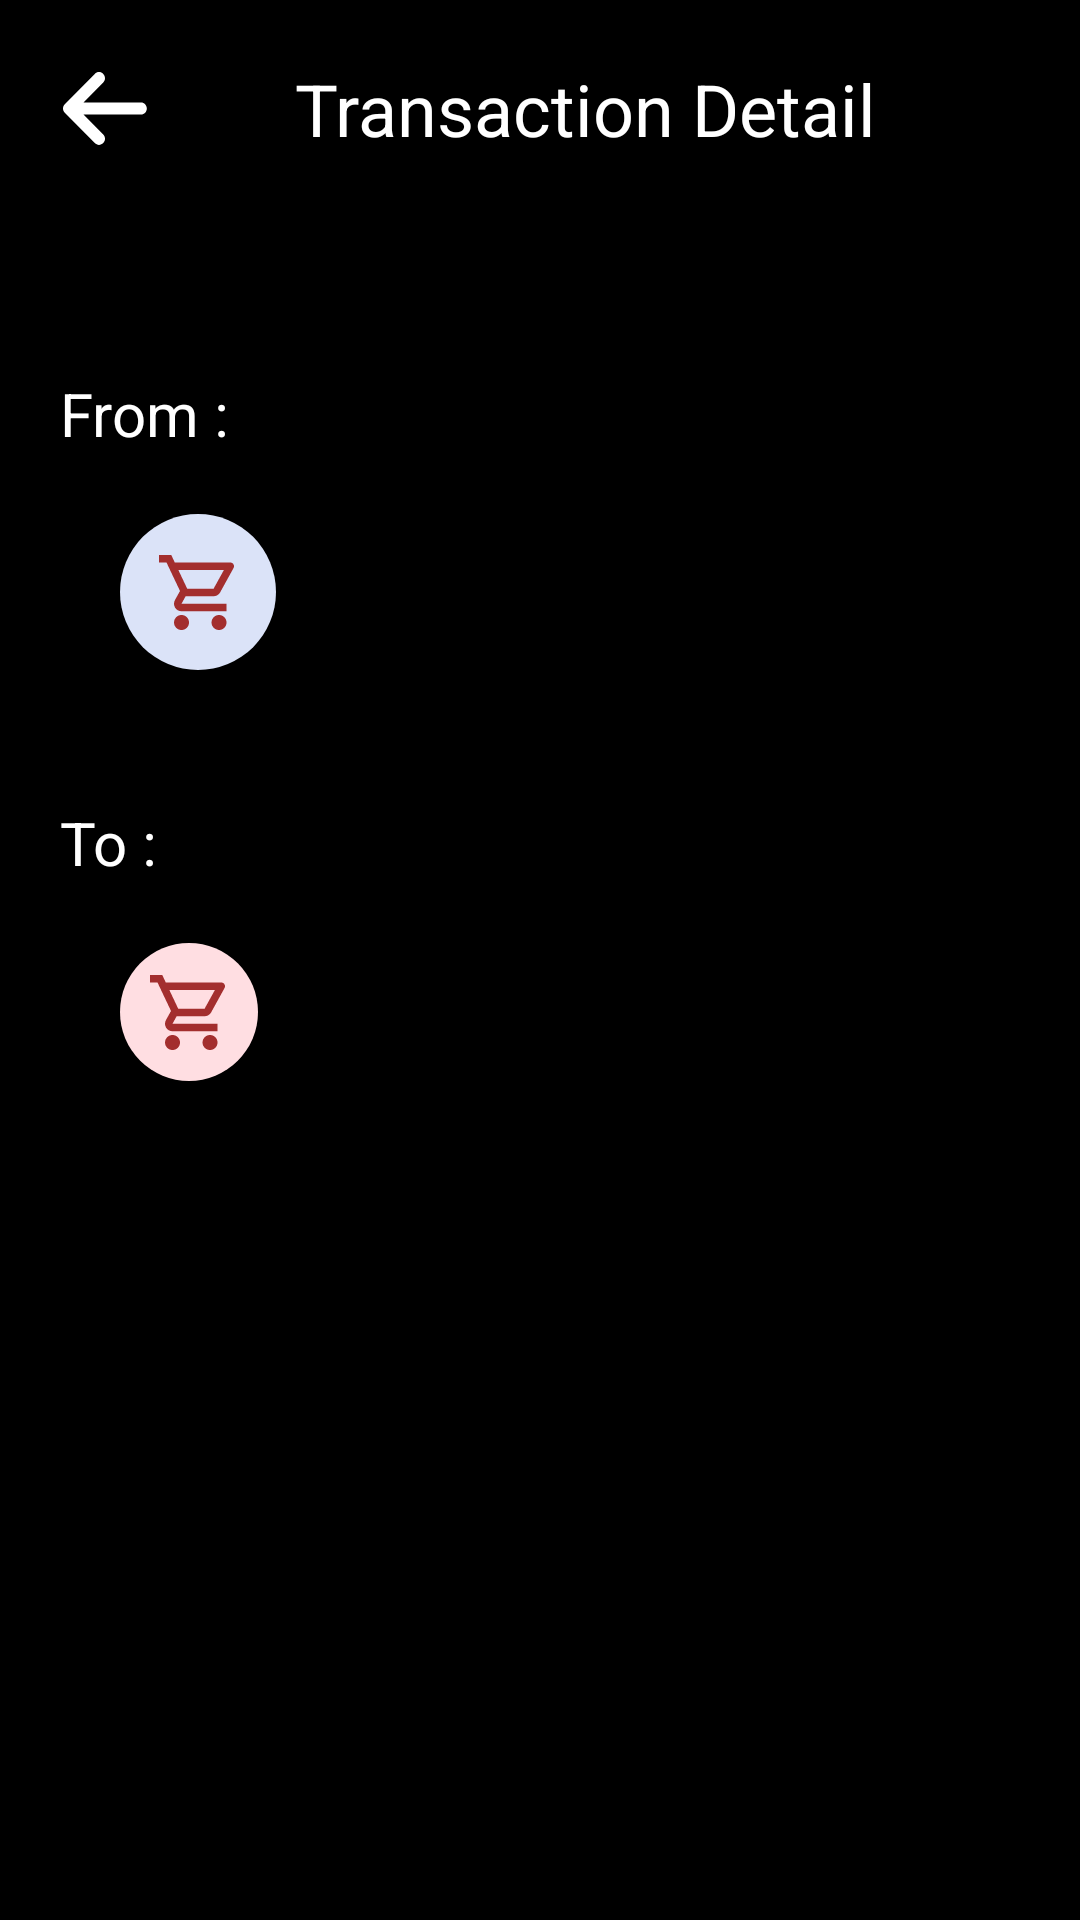

Named icons in this screenshot (1080*1920) and their centers, [x,y]:
back: [105,108]
shopping: [198,592], [189,1012]
